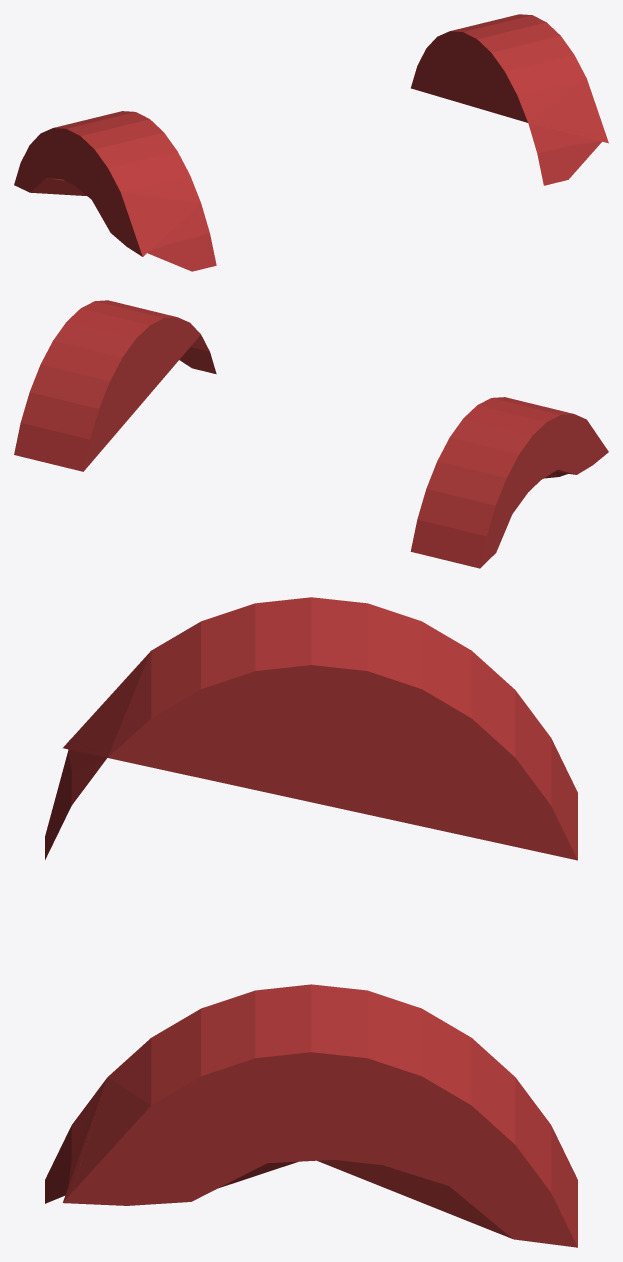
File: wheel-spats.dae
3 renders of one model, top to bottom at view 1: azimuth 30°, elevation 25°; view 2: azimuth 150°, elevation 25°; view 3: azimuth 270°, elevation 25°, orthographic. The views are drawn at different scales.
Parts seen in each view (by area): view 1: Cylinder_020, Cylinder_017; view 2: Cylinder_017, Cylinder_020; view 3: Cylinder_017, Cylinder_020.
Boxes of the visible parts, x1,y1,x2,y2 form: Cylinder_020: (14, 111, 216, 271); Cylinder_017: (411, 14, 608, 185); Cylinder_017: (14, 300, 216, 471); Cylinder_020: (410, 397, 608, 568); Cylinder_017: (45, 984, 577, 1247); Cylinder_020: (45, 597, 577, 860).
Size of the model in its own units: 1.69 by 0.8363 by 0.3385.
